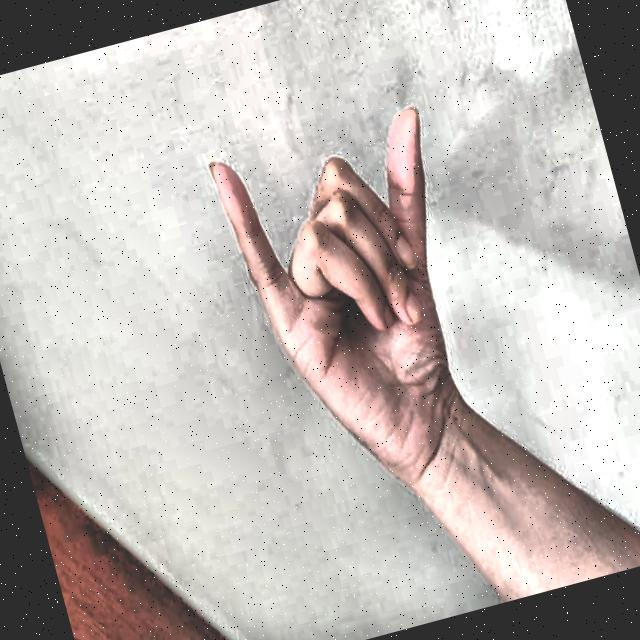Oi: (172, 62, 538, 516)
